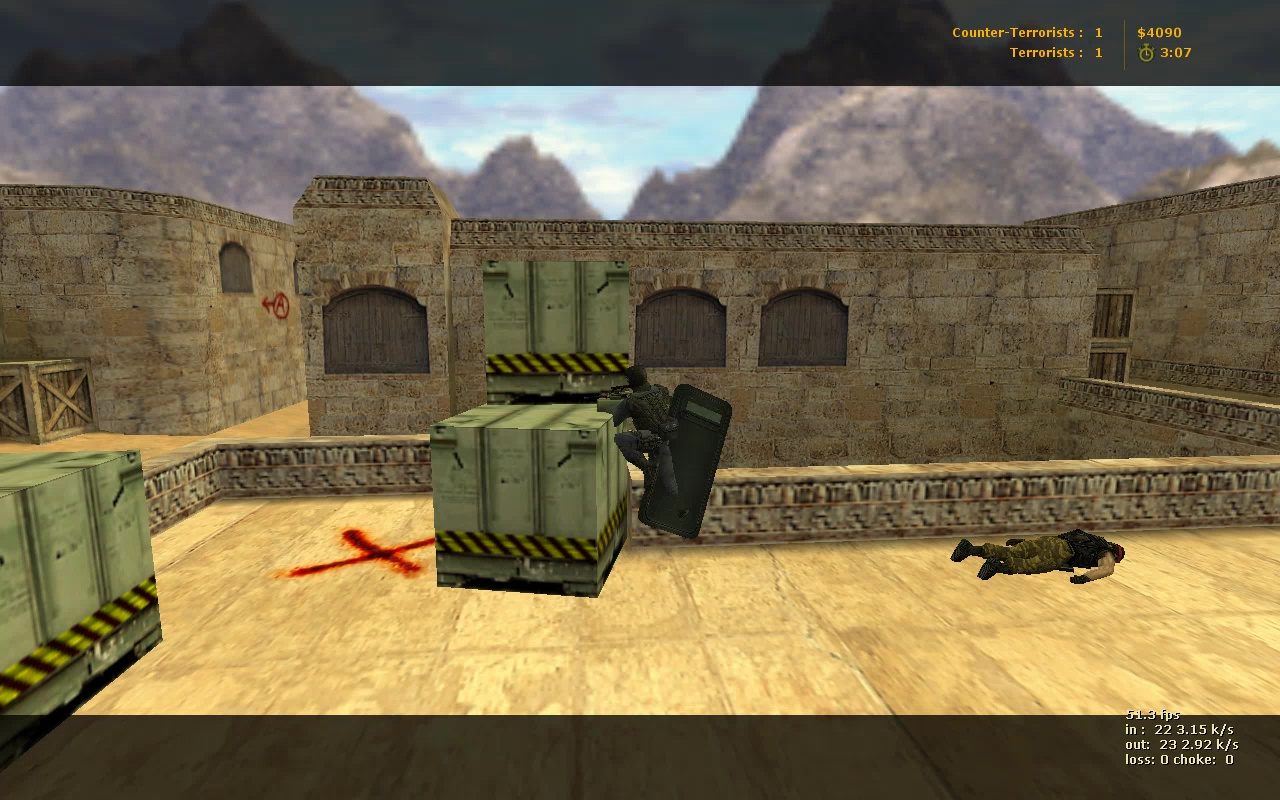ct: (608, 366, 734, 545)
